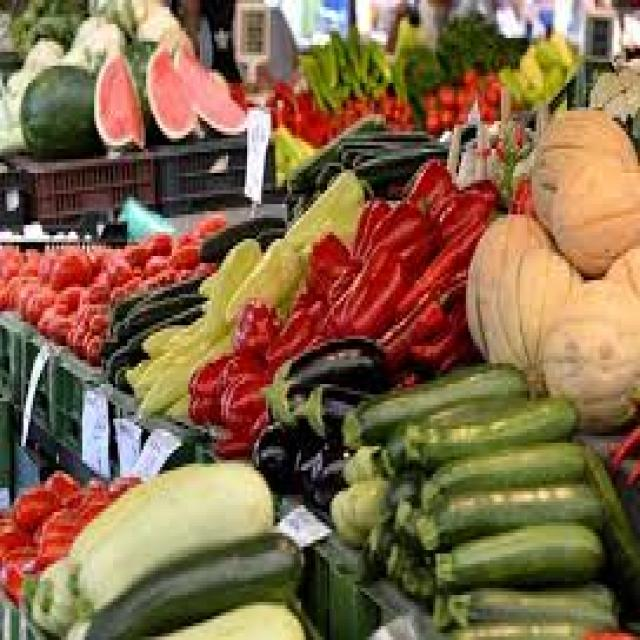organic waste: (63, 457, 273, 609), (82, 530, 302, 636), (339, 360, 525, 443), (538, 276, 638, 426), (530, 104, 636, 235), (489, 235, 582, 384), (404, 394, 576, 467), (466, 208, 548, 356), (574, 436, 638, 616), (376, 391, 520, 470), (419, 436, 583, 505), (430, 516, 604, 581), (261, 336, 377, 432), (442, 574, 614, 637), (412, 481, 602, 536), (550, 156, 638, 273), (322, 238, 412, 336), (284, 111, 384, 197), (296, 21, 396, 104), (396, 211, 482, 304), (172, 31, 244, 135), (16, 59, 99, 149), (143, 595, 306, 637), (285, 166, 369, 242), (224, 235, 294, 325), (433, 7, 520, 79), (200, 235, 261, 336), (398, 291, 466, 377), (129, 336, 205, 412), (285, 380, 388, 436), (127, 315, 205, 387), (144, 42, 202, 138), (90, 48, 144, 149), (379, 287, 454, 356), (365, 198, 440, 266), (327, 470, 391, 540), (23, 554, 78, 630), (247, 415, 301, 491), (290, 429, 342, 505), (198, 211, 280, 259), (264, 294, 320, 363), (7, 35, 66, 100), (292, 200, 355, 260), (358, 145, 442, 187), (398, 152, 452, 215), (10, 0, 90, 42), (334, 135, 440, 166), (586, 59, 638, 121), (200, 215, 285, 252), (64, 10, 122, 62), (124, 35, 158, 121), (188, 349, 228, 422), (216, 366, 264, 426), (228, 294, 282, 346), (273, 124, 322, 180), (344, 201, 388, 263), (398, 31, 450, 80), (36, 505, 82, 557), (85, 0, 162, 31), (10, 481, 54, 533), (360, 509, 395, 574), (290, 86, 330, 142), (50, 242, 94, 291), (445, 626, 635, 637), (329, 128, 428, 149), (379, 470, 423, 516), (0, 543, 38, 595), (127, 277, 200, 304), (428, 180, 468, 225), (0, 76, 26, 145), (604, 242, 638, 294), (494, 131, 522, 194), (61, 474, 104, 515), (165, 298, 207, 339), (207, 426, 257, 460), (468, 104, 489, 183), (136, 322, 184, 356), (607, 415, 638, 467), (289, 256, 327, 298), (395, 554, 433, 595), (459, 176, 503, 211), (308, 228, 348, 266), (221, 349, 273, 377), (322, 253, 356, 294), (144, 7, 184, 41), (379, 429, 412, 470), (0, 502, 24, 557), (104, 339, 141, 374), (381, 536, 414, 574), (339, 443, 379, 474), (391, 498, 414, 547), (21, 287, 52, 322), (42, 467, 76, 498), (268, 73, 299, 107), (97, 249, 127, 284), (445, 118, 468, 162), (167, 339, 209, 363), (548, 31, 576, 66), (428, 584, 452, 622), (266, 90, 292, 124), (506, 170, 529, 208), (160, 388, 188, 418), (33, 298, 61, 328), (0, 239, 24, 273), (457, 142, 478, 180), (120, 360, 153, 384), (52, 280, 80, 308), (402, 86, 422, 125), (64, 312, 85, 349), (369, 90, 393, 121), (534, 38, 560, 66), (118, 242, 148, 266), (106, 474, 139, 495), (106, 294, 139, 315), (12, 274, 35, 304), (516, 42, 536, 76), (36, 246, 56, 280), (539, 59, 560, 90), (19, 242, 40, 273), (320, 104, 344, 131), (188, 214, 224, 232), (144, 228, 170, 252), (73, 298, 99, 322), (44, 312, 70, 336), (384, 94, 404, 125), (56, 619, 90, 637), (170, 228, 202, 246), (196, 260, 217, 287), (476, 93, 496, 121), (436, 76, 456, 104), (170, 242, 196, 263), (252, 225, 284, 242), (80, 332, 99, 360), (0, 277, 19, 304), (85, 246, 106, 270), (106, 315, 134, 332), (96, 335, 122, 353), (141, 252, 165, 270), (456, 83, 476, 104), (82, 277, 106, 294), (520, 73, 539, 94), (461, 59, 480, 80), (87, 308, 106, 329), (424, 108, 440, 132), (485, 76, 501, 97), (341, 94, 355, 118), (351, 90, 367, 111), (496, 62, 513, 80), (438, 100, 452, 121), (508, 83, 525, 100), (21, 218, 40, 232), (172, 266, 195, 277), (626, 460, 638, 481), (282, 194, 296, 211), (421, 83, 435, 100), (122, 266, 139, 280), (104, 280, 122, 291), (0, 224, 16, 235), (151, 266, 167, 277), (405, 107, 414, 125), (480, 66, 494, 76), (452, 107, 464, 118), (40, 228, 56, 236), (56, 225, 68, 235), (68, 222, 76, 228)
